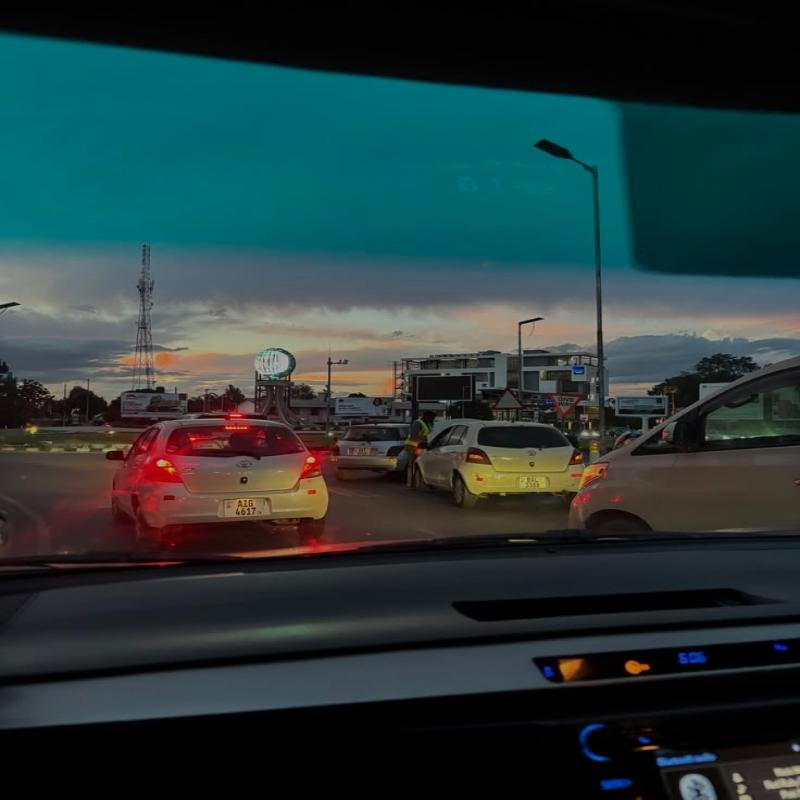license plate on a car: (223, 499, 268, 517), (518, 477, 547, 489), (349, 448, 377, 455)
